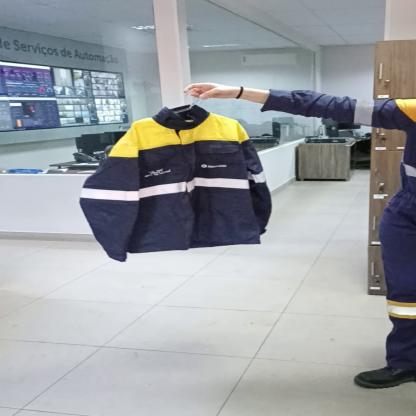C_eletrica: (82, 111, 279, 259)
